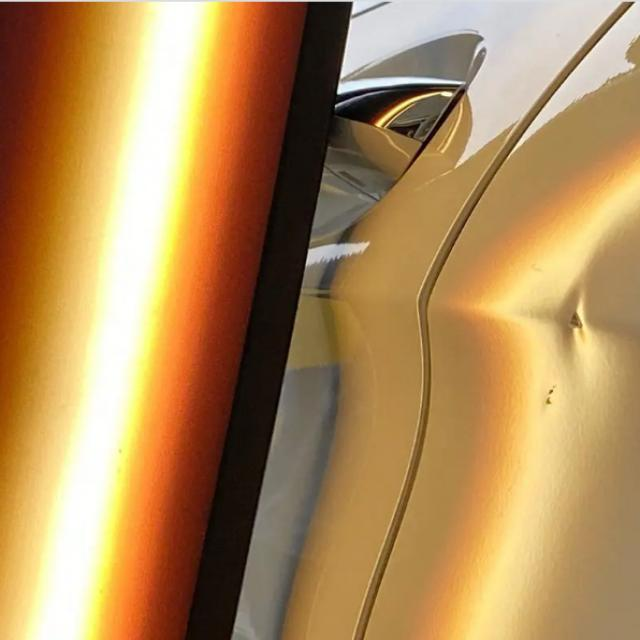dents: (548, 281, 617, 355), (524, 369, 583, 431)
